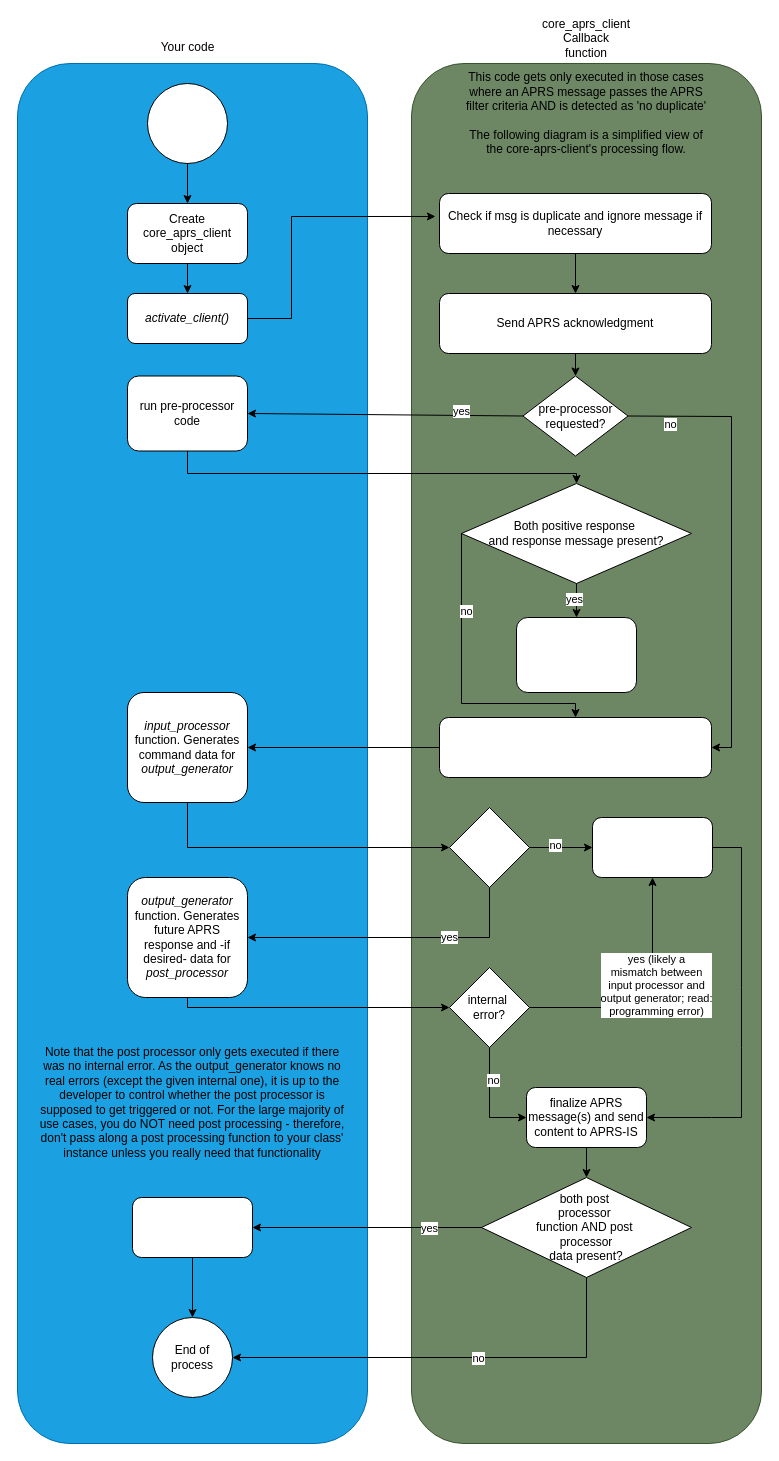
Image size: 779x1461. Some labels were removed from this diagram. The shapes that lost their labels are listed below. From the top down, each one's box as (x1, y1, x2, y2) in pixels, then its label:
(146, 82, 228, 164): Start of process
(516, 616, 636, 692): Send APRS response message from pre-processor
(438, 716, 712, 778): trigger processing of received message
(448, 806, 530, 888): response ok?
(592, 816, 712, 878): prepare generic error message
(132, 1196, 252, 1258): post_processor function
